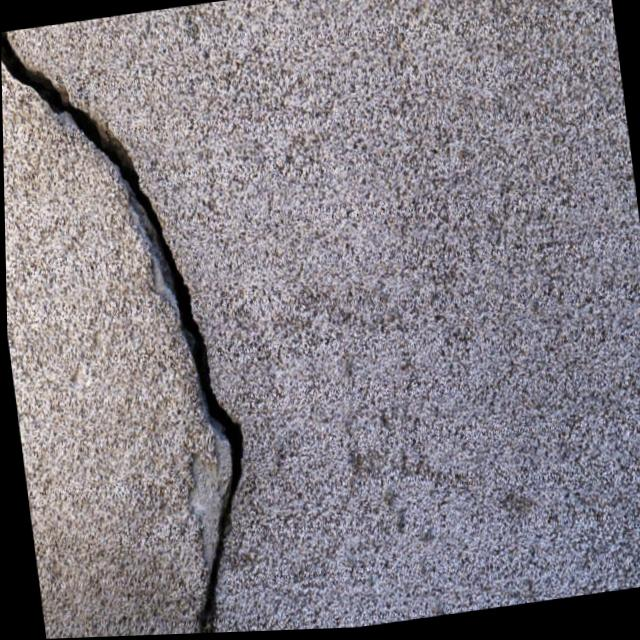Crack: (94, 98, 234, 432), (156, 409, 277, 636), (0, 18, 114, 159)
